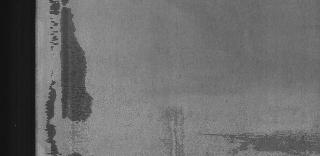oil spot: (42, 1, 96, 155), (208, 124, 314, 156)
